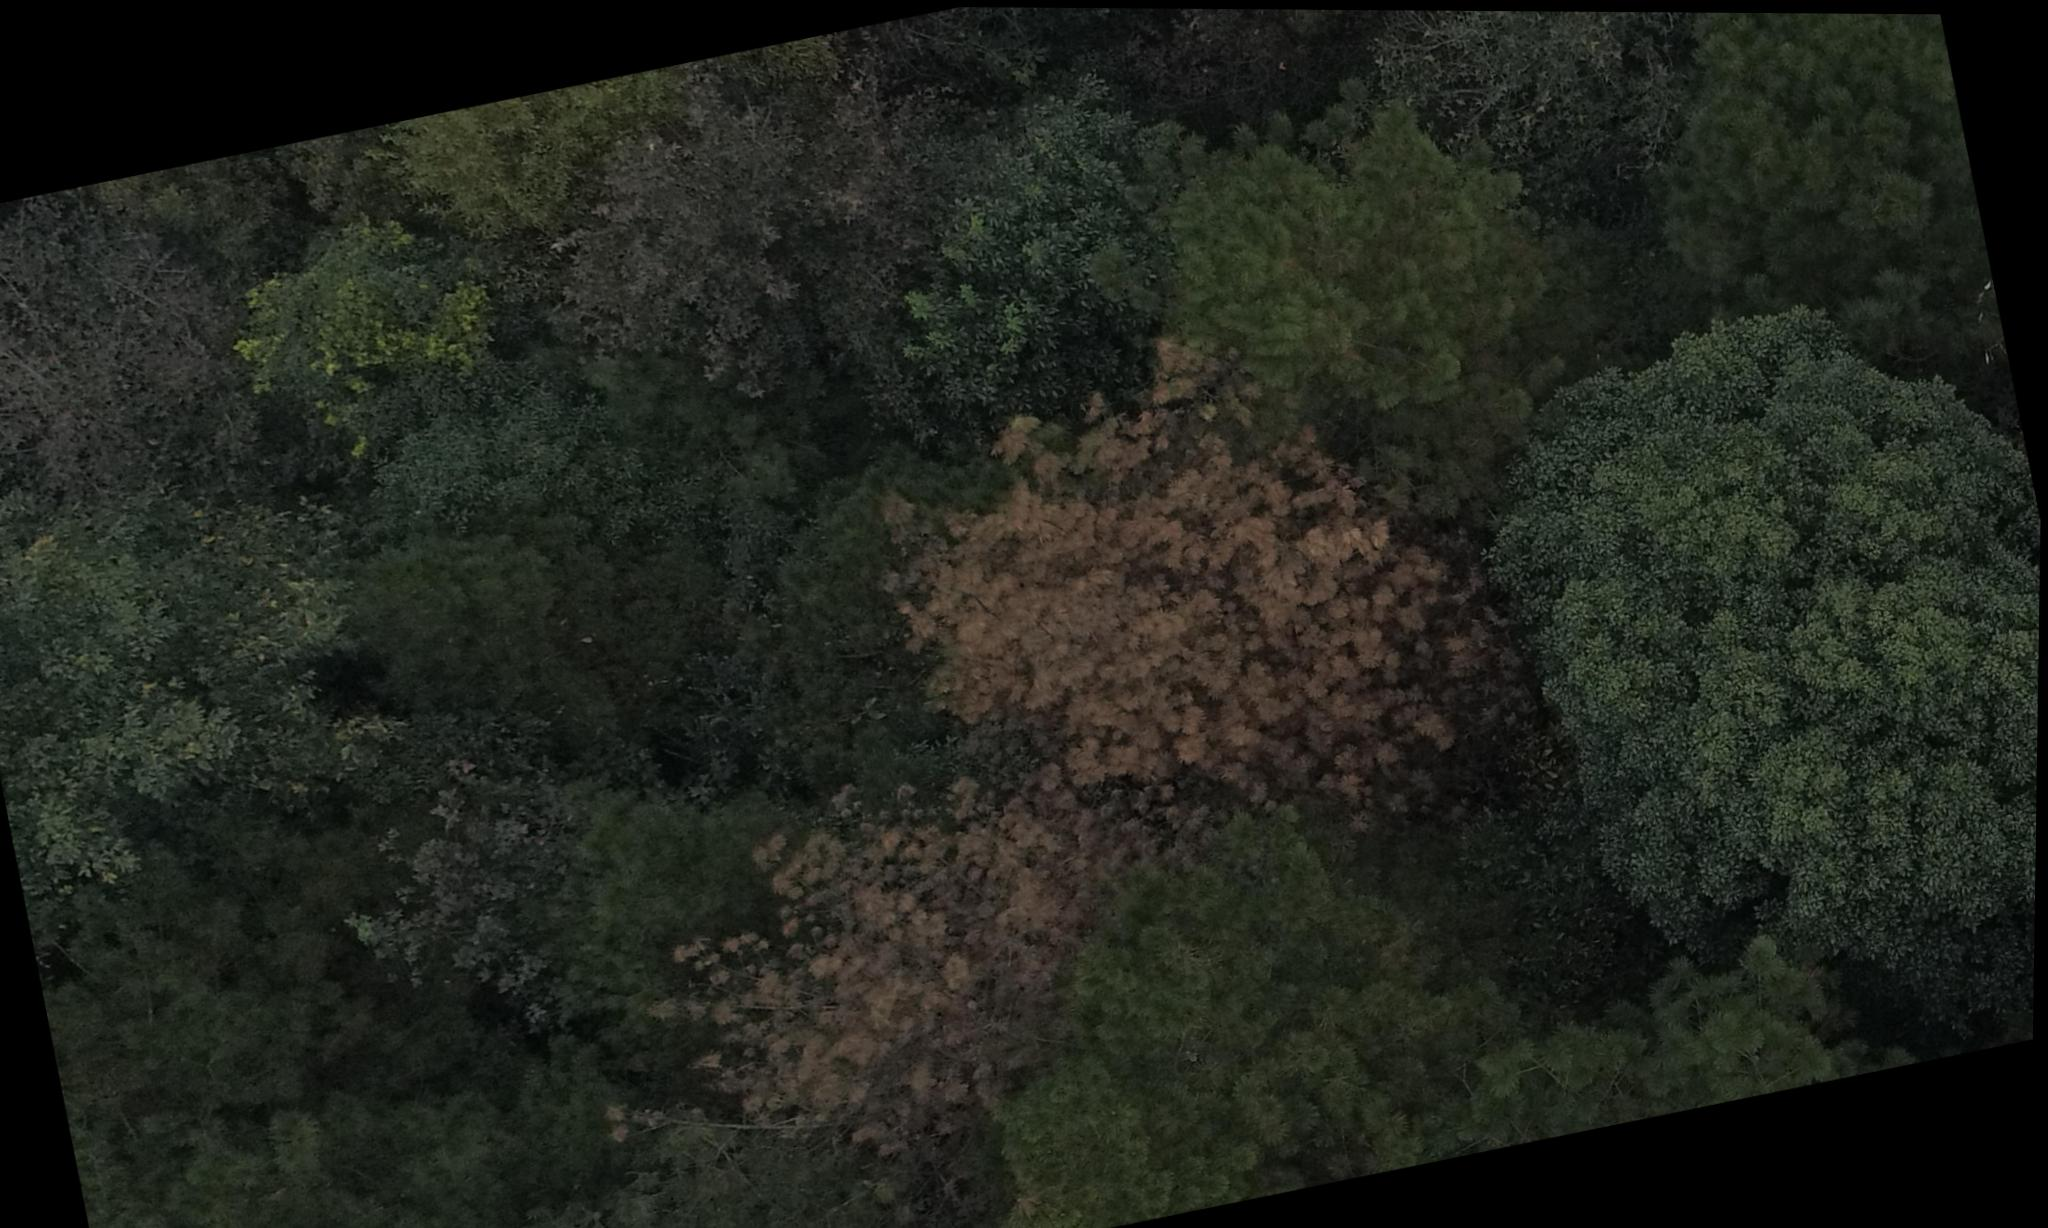heavy: (870, 297, 1463, 789), (649, 778, 1183, 1167)
